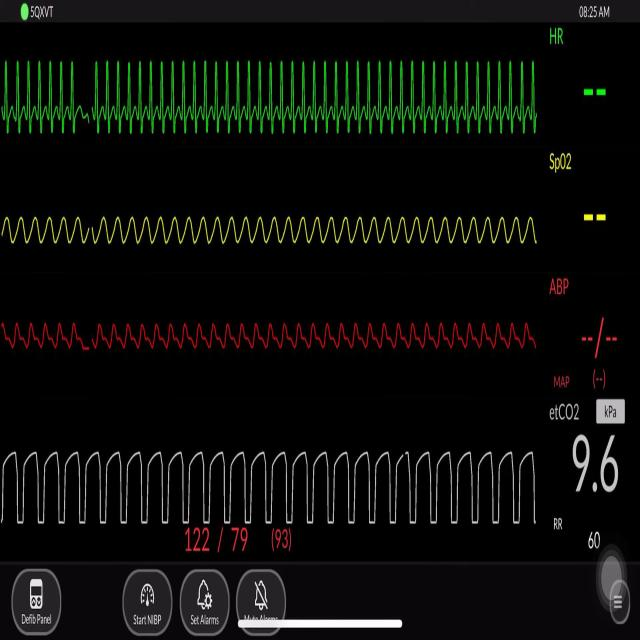danger: (92, 49, 539, 144), (4, 54, 78, 151)
